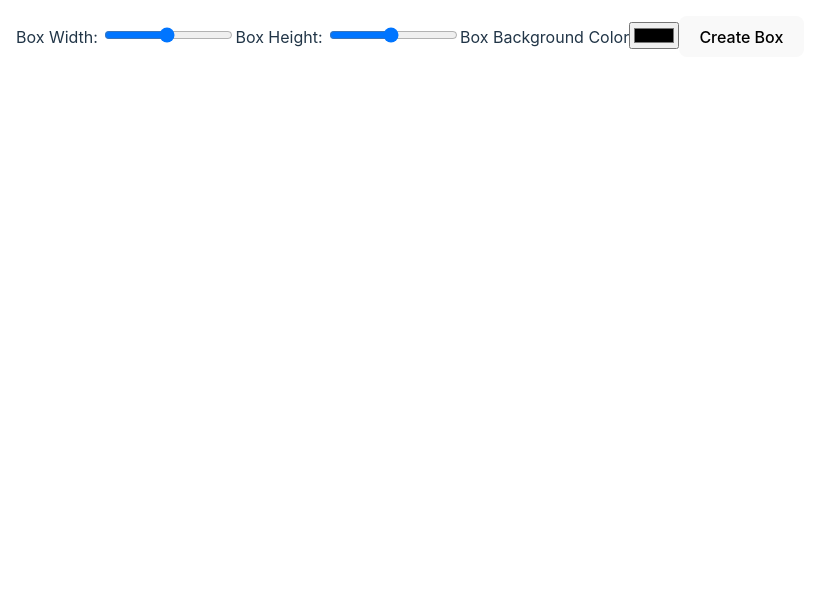
it: should add a new box
Click the button "Create Box" at (741, 37), box [679,16,804,57]
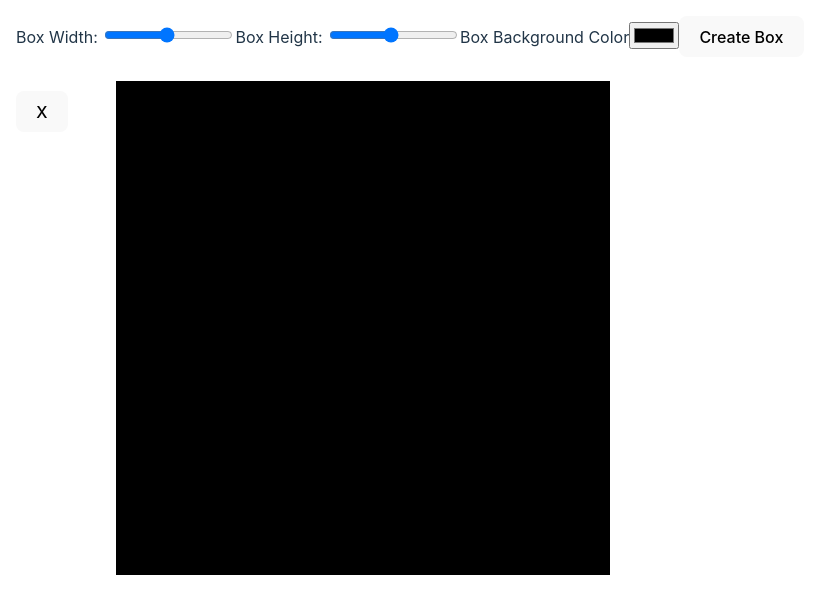
Expected: the button "X" is shown, [16,91,68,132]
